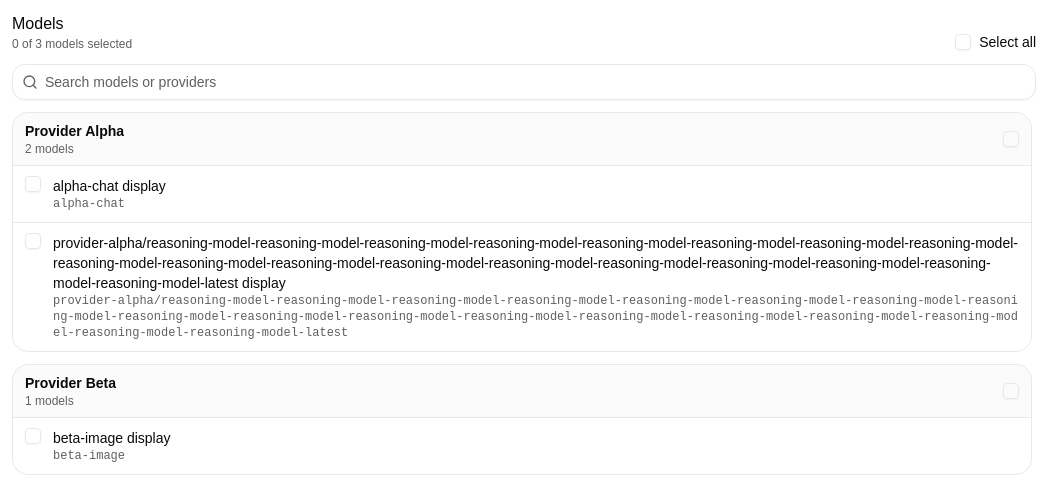
Test case: provider grouped quotation model selection › filters by model ID or provider while keeping long IDs wrap-safe
Type "beta" into the search field labelled "Search models" at point(524, 82), box left=12, top=64, right=1036, bottom=100
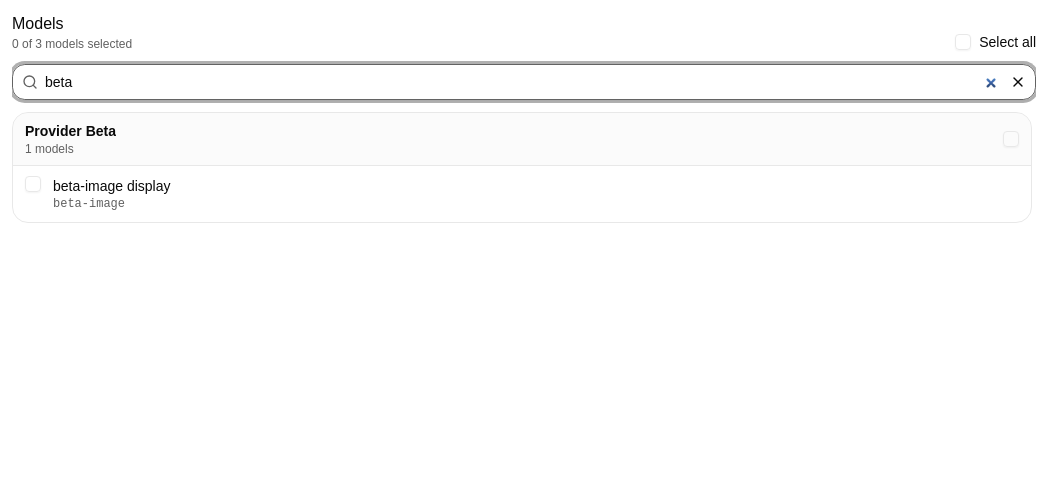
Expected: the text "Provider Beta" is shown, left=25, top=121, right=116, bottom=141
Result: the text "alpha-chat" is gone
